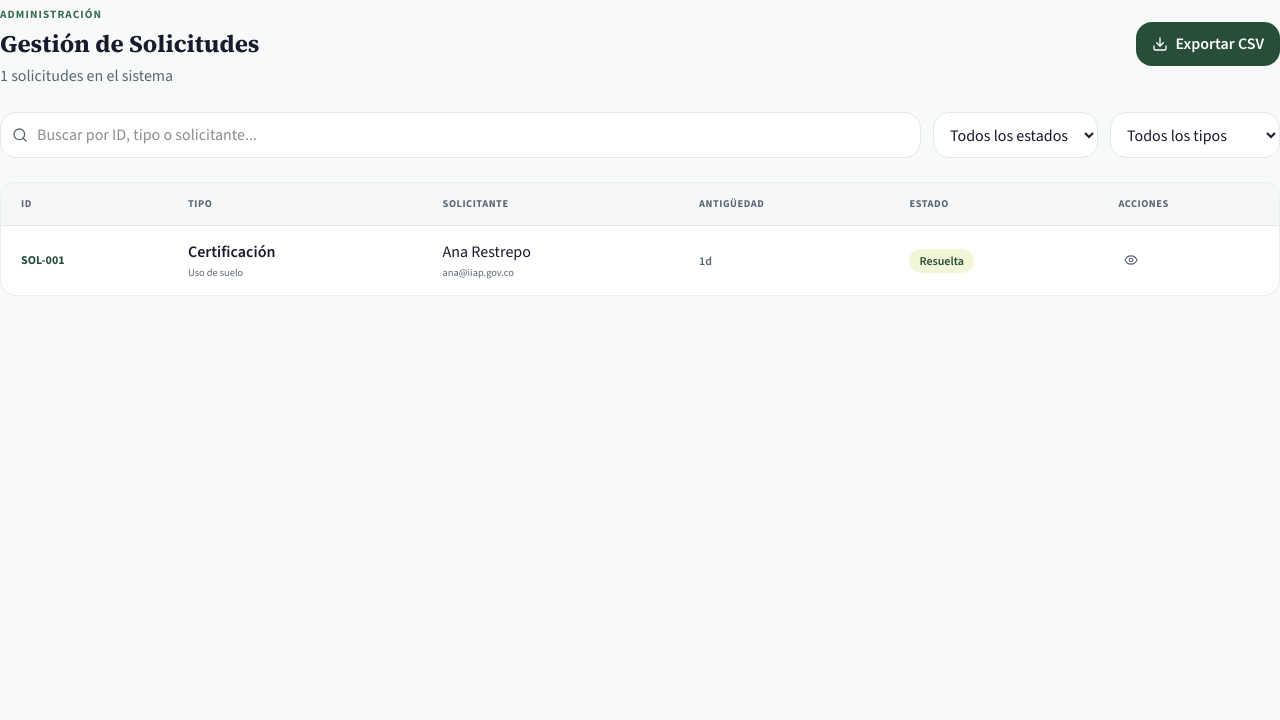
Test: GestionSolicitudes — drawer de detalle › una solicitud resuelta muestra la respuesta enviada
Click the button titled "Ver detalle": (1131, 260) [1118,247,1144,273]
(page scrolled)
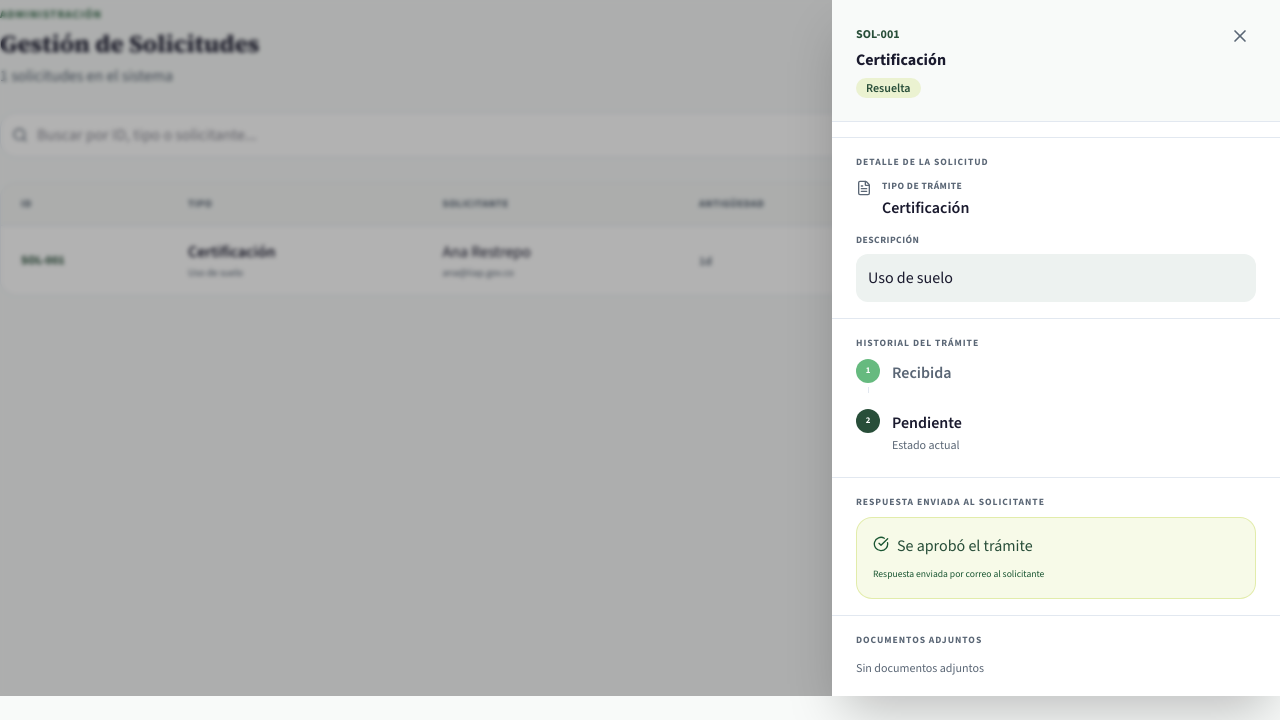
Now the text "Respuesta enviada al solicitante" is shown, box [856,495,1045,508]
Now the text "Se aprobó el trámite" is shown, box [897,534,1033,558]
